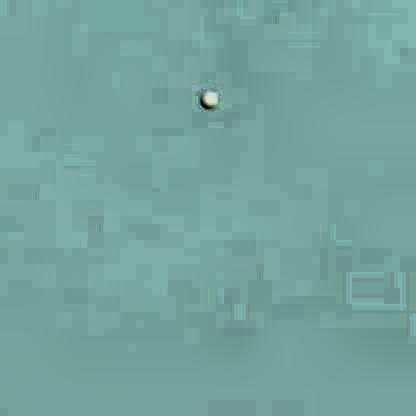golfball: (198, 88, 216, 107)
